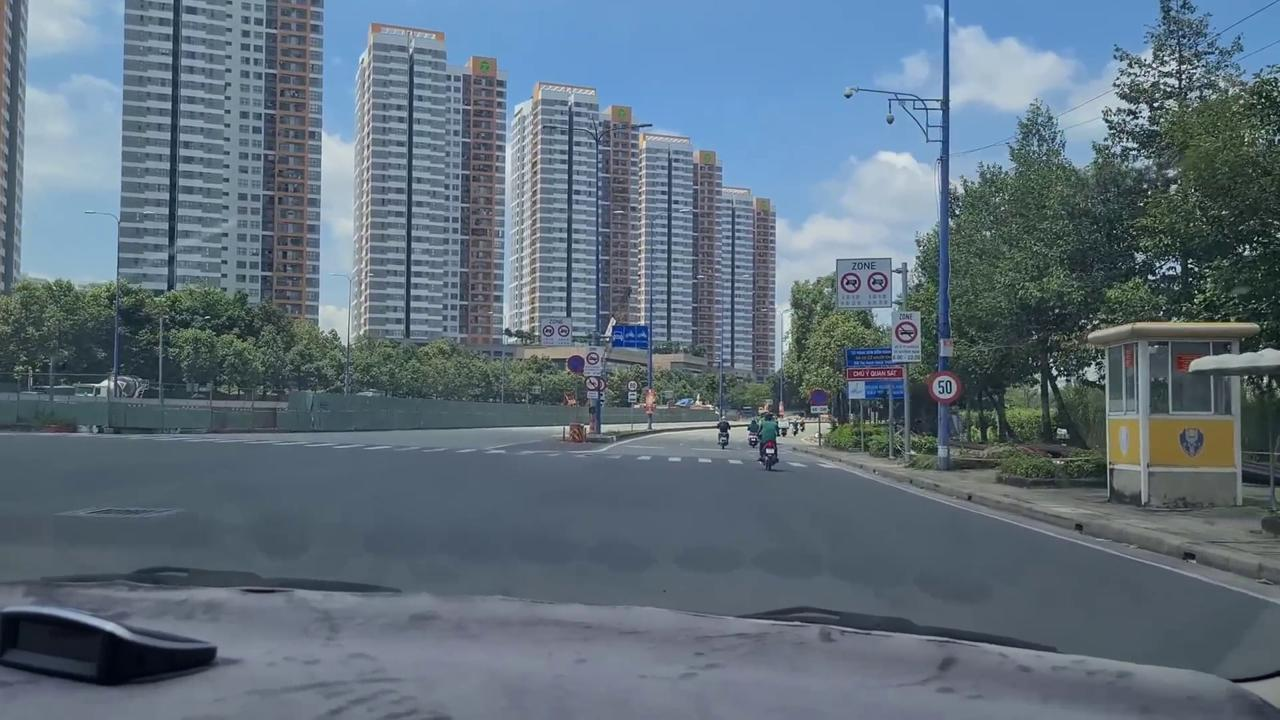Cấm cac phương tiện hoạt động trong khung giờ cố định: (835, 258, 893, 309), (891, 310, 922, 364), (539, 318, 573, 346), (584, 346, 602, 376)
Cấm dừng - Cấm đỗ: (566, 354, 586, 373), (809, 389, 829, 406)
Cấm xe máy: (584, 377, 601, 391)
Giới hạn tốc độ 50Km/h: (927, 369, 962, 404)
Giới hạn tốc độ 80Km/h: (627, 378, 639, 392)
Khác: (844, 348, 910, 402)
Làn đường cho từng xe: (611, 323, 649, 350)
